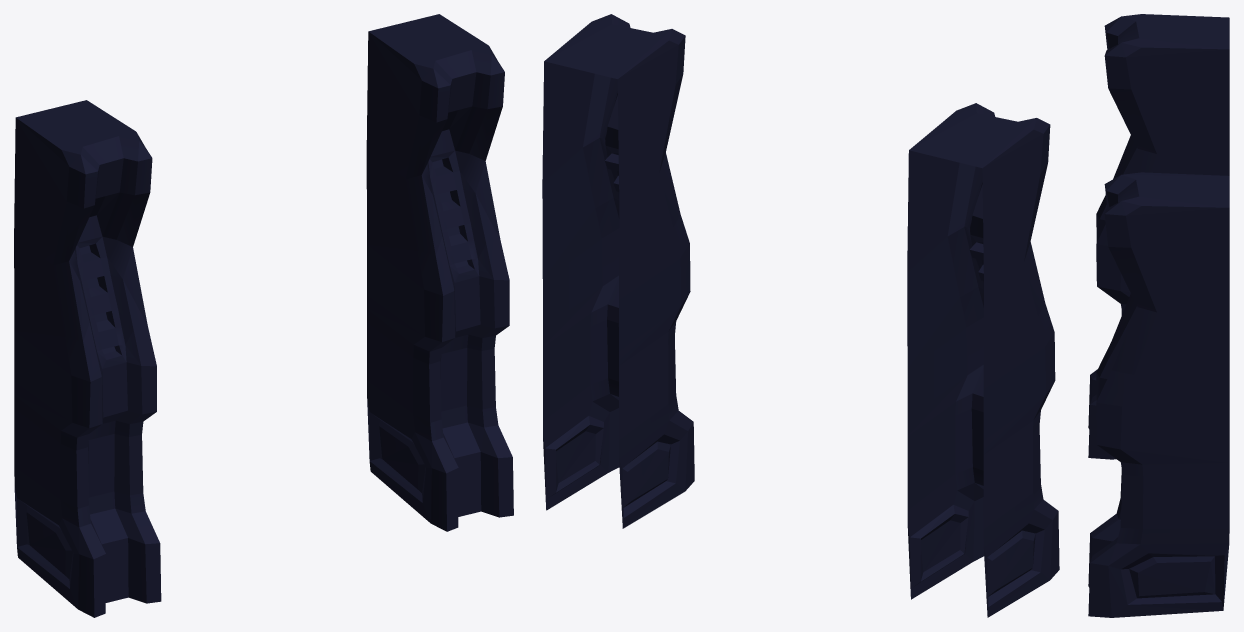
The model's file is lava_plants.glb.
3 renders of one model, left to right at view 1: azimuth 30°, elevation 25°; view 2: azimuth 150°, elevation 25°; view 3: azimuth 270°, elevation 25°, orthographic. The views are drawn at different scales.
Visible parts, largest first — view 1: EA_arch_Corridor_Wall_4x4_02d.002_LOD0; view 2: EA_arch_Corridor_Wall_4x4_02d.002_LOD0; view 3: EA_arch_Corridor_Wall_4x4_02d.002_LOD0.
Part boxes in pixels (x1,y1,x2,y2): EA_arch_Corridor_Wall_4x4_02d.002_LOD0: [14, 14, 513, 617]; EA_arch_Corridor_Wall_4x4_02d.002_LOD0: [542, 14, 1059, 617]; EA_arch_Corridor_Wall_4x4_02d.002_LOD0: [1088, 14, 1229, 617].
Size of what is drawn, in the model's own units: 4 by 4 by 1.24.
